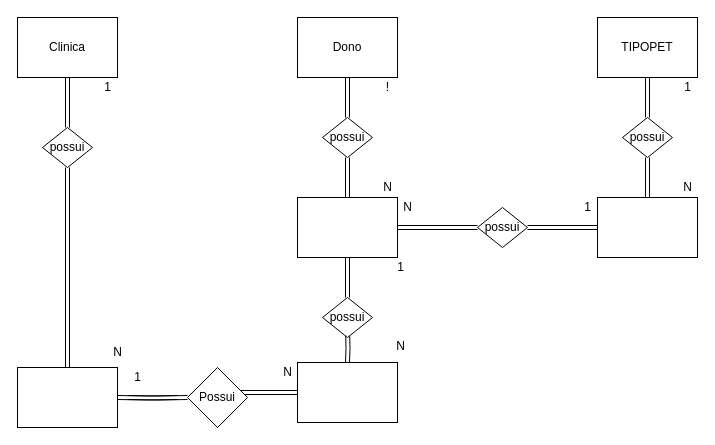
This 715x445 diagram has some shape labels left out. The shapes that lost their labels are listed below. From the top down, each one's centre as x and y in pixels, then its label:
(347,227): PET
(647,227): RAÇA
(67,397): Veterinário
(347,392): Atendimento
